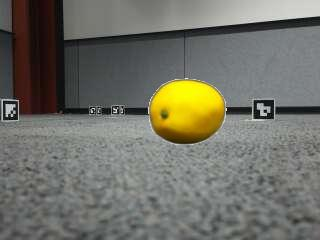lemon: (149, 80, 224, 144)
